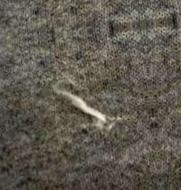snag: (56, 82, 113, 130)
